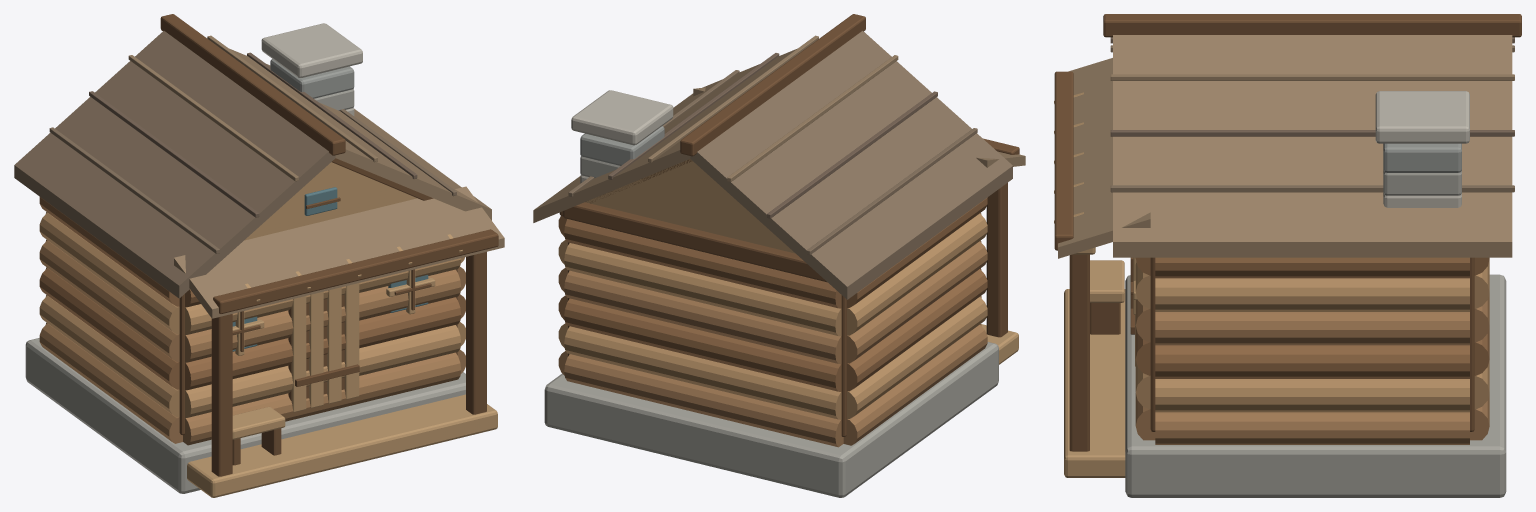
Rendered from cabana_rustica.glb.
3 renders of one model, left to right at view 1: azimuth 30°, elevation 25°; view 2: azimuth 150°, elevation 25°; view 3: azimuth 270°, elevation 25°, orthographic. The views are drawn at different scales.
Parts seen in each view (by area): view 1: Cabana rústica | Telhado de madeira 0, Cabana rústica | Tábuas da varanda, Cabana rústica | Telhado de madeira 1, Cabana rústica | Madeira escura, Cabana rústica | Troncos de pinho 0, Cabana rústica | Troncos de pinho 1, Cabana rústica | Pedra da chaminé 0, Cabana rústica | Troncos de pinho 2, Cabana rústica | Pedra da chaminé 1, Cabana rústica | Telhado de madeira 2, Cabana rústica | Pedra da chaminé 2, Cabana rústica | Vidro escuro; view 2: Cabana rústica | Telhado de madeira 0, Cabana rústica | Troncos de pinho 0, Cabana rústica | Troncos de pinho 1, Cabana rústica | Pedra da chaminé 0, Cabana rústica | Troncos de pinho 2, Cabana rústica | Madeira escura, Cabana rústica | Tábuas da varanda, Cabana rústica | Telhado de madeira 1, Cabana rústica | Pedra da chaminé 1, Cabana rústica | Telhado de madeira 2, Cabana rústica | Pedra da chaminé 2; view 3: Cabana rústica | Telhado de madeira 1, Cabana rústica | Pedra da chaminé 0, Cabana rústica | Troncos de pinho 1, Cabana rústica | Troncos de pinho 0, Cabana rústica | Madeira escura, Cabana rústica | Troncos de pinho 2, Cabana rústica | Tábuas da varanda, Cabana rústica | Pedra da chaminé 1, Cabana rústica | Telhado de madeira 0, Cabana rústica | Pedra da chaminé 2, Cabana rústica | Telhado de madeira 2.
Part boxes in pixels (box(x1,y1,x2,y2)): Cabana rústica | Telhado de madeira 0: box(14, 31, 456, 298); Cabana rústica | Tábuas da varanda: box(187, 162, 497, 497); Cabana rústica | Telhado de madeira 1: box(128, 35, 504, 318); Cabana rústica | Madeira escura: box(160, 14, 498, 476); Cabana rústica | Troncos de pinho 0: box(39, 239, 465, 445); Cabana rústica | Troncos de pinho 1: box(39, 212, 465, 417); Cabana rústica | Pedra da chaminé 0: box(25, 89, 465, 493); Cabana rústica | Troncos de pinho 2: box(39, 197, 465, 390); Cabana rústica | Pedra da chaminé 1: box(261, 23, 362, 115); Cabana rústica | Telhado de madeira 2: box(89, 52, 417, 217); Cabana rústica | Pedra da chaminé 2: box(270, 59, 354, 98); Cabana rústica | Vidro escuro: box(232, 187, 428, 351); Cabana rústica | Telhado de madeira 0: box(568, 31, 1012, 299); Cabana rústica | Troncos de pinho 0: box(558, 240, 987, 447); Cabana rústica | Troncos de pinho 1: box(558, 213, 987, 419); Cabana rústica | Pedra da chaminé 0: box(544, 156, 998, 497); Cabana rústica | Troncos de pinho 2: box(558, 197, 987, 391); Cabana rústica | Madeira escura: box(559, 14, 1019, 436); Cabana rústica | Tábuas da varanda: box(585, 159, 1018, 364); Cabana rústica | Telhado de madeira 1: box(533, 35, 1025, 222); Cabana rústica | Pedra da chaminé 1: box(571, 90, 673, 183); Cabana rústica | Telhado de madeira 2: box(608, 53, 937, 218); Cabana rústica | Pedra da chaminé 2: box(580, 126, 664, 165); Cabana rústica | Telhado de madeira 1: box(1058, 35, 1514, 258); Cabana rústica | Pedra da chaminé 0: box(1125, 170, 1506, 497); Cabana rústica | Troncos de pinho 1: box(1135, 259, 1489, 412); Cabana rústica | Troncos de pinho 0: box(1135, 293, 1489, 444); Cabana rústica | Madeira escura: box(1054, 14, 1521, 451); Cabana rústica | Troncos de pinho 2: box(1135, 257, 1489, 378); Cabana rústica | Tábuas da varanda: box(1054, 92, 1137, 477); Cabana rústica | Pedra da chaminé 1: box(1375, 91, 1469, 207); Cabana rústica | Telhado de madeira 0: box(1110, 45, 1514, 192); Cabana rústica | Pedra da chaminé 2: box(1383, 143, 1461, 172); Cabana rústica | Telhado de madeira 2: box(1110, 37, 1514, 136).
Size of the model in its own units: 2.78 by 2.77 by 2.97.
